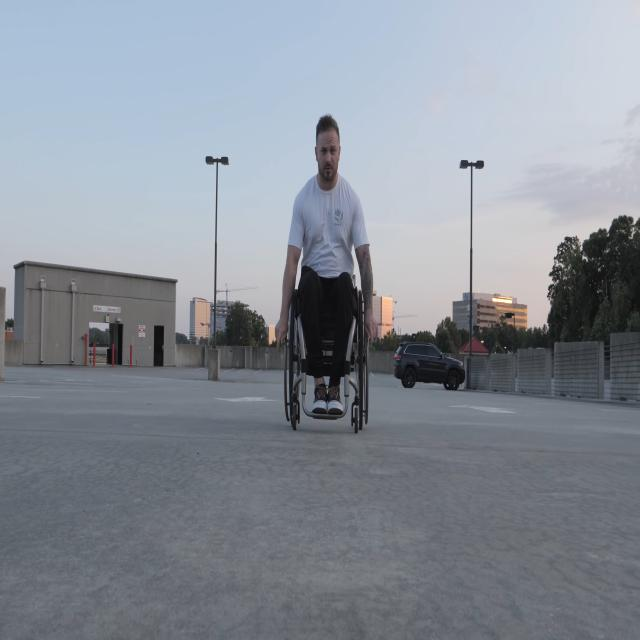wheelchairs: (284, 242, 371, 439)
